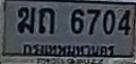0: (102, 9, 114, 34)
4: (117, 9, 129, 34)
6: (70, 8, 83, 33)
7: (86, 8, 100, 34)
A06: (17, 6, 34, 32)
A22: (38, 7, 54, 33)
BKK: (22, 42, 118, 58)
